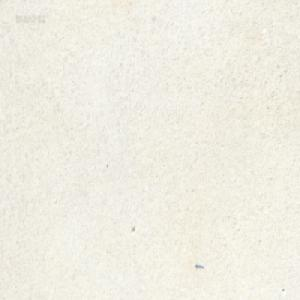Nail: (194, 261, 204, 268)
